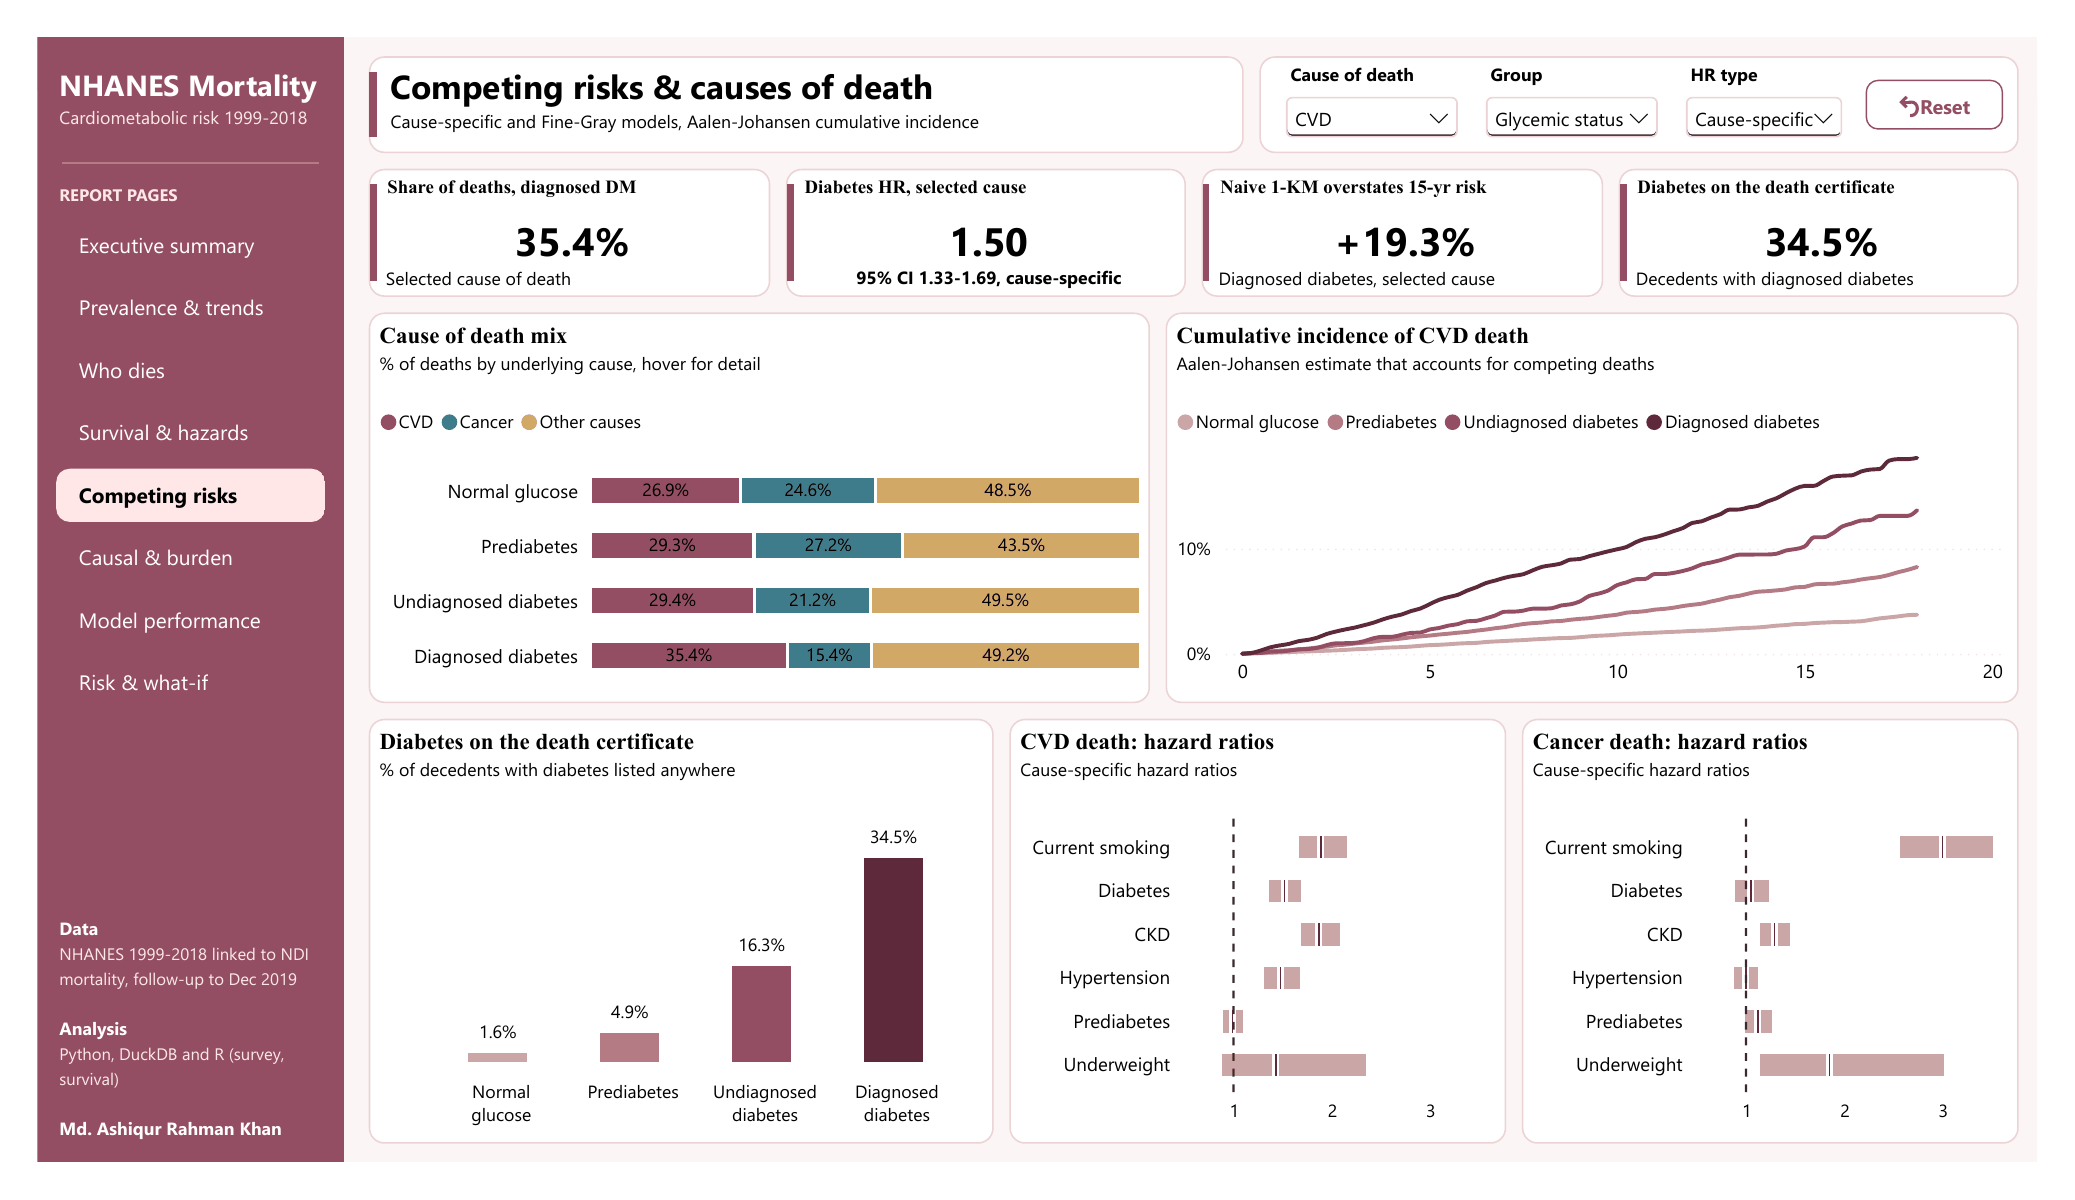

This screenshot's page, from the dashboard's own definition file:
{"tool":"powerbi","page":{"name":"Competing risks","canvas":[1280,720],"ordinal":4},"visuals":[{"type":"shape","box":[0,0,196,720],"z":1100},{"type":"textbox","box":[12,16,176,56],"z":1200},{"type":"shape","box":[16,80,164,1],"z":1300},{"type":"textbox","box":[12,90,176,22],"z":1400},{"type":"actionButton","box":[12,116,172,34],"z":1500},{"type":"actionButton","box":[12,156,172,34],"z":1600},{"type":"actionButton","box":[12,196,172,34],"z":1700},{"type":"actionButton","box":[12,236,172,34],"z":1800},{"type":"actionButton","box":[12,276,172,34],"z":1900},{"type":"actionButton","box":[12,316,172,34],"z":2000},{"type":"actionButton","box":[12,356,172,34],"z":2100},{"type":"actionButton","box":[12,396,172,34],"z":2200},{"type":"textbox","box":[12,560,176,150],"z":2300},{"type":"shape","box":[212,12,560,62],"z":2400},{"type":"shape","box":[212,22,5,42],"z":2500},{"type":"textbox","box":[224,15,542,56],"z":2600},{"type":"shape","box":[782,12,486,62],"z":2700},{"type":"actionButton","box":[1170,27,88,32],"z":2800},{"type":"slicer","fields":{"Values":["dim_cause.cause"]},"box":[794,16,120,54],"z":2900},{"type":"slicer","fields":{"Values":["dim_group_level.group_label"]},"box":[922,16,120,54],"z":3000},{"type":"slicer","fields":{"Values":["HR Type.HR Type"]},"box":[1050,16,110,54],"z":3100},{"type":"shape","box":[212,84,256.5,82],"z":3200},{"type":"shape","box":[213,94,4,62],"z":3300},{"type":"card","title":"Share of deaths, diagnosed DM","fields":{"Values":["_Measures.KPI Cause Share Diagnosed DM"]},"box":[222,87,240.5,60],"z":3400},{"type":"textbox","box":[222,145,240.5,19],"z":3500},{"type":"shape","box":[478.5,84,256.5,82],"z":3600},{"type":"shape","box":[479.5,94,4,62],"z":3700},{"type":"card","title":"Diabetes HR, selected cause","fields":{"Values":["_Measures.KPI Diabetes Cause HR"]},"box":[488.5,87,240.5,60],"z":3800},{"type":"card","fields":{"Values":["_Measures.KPI Diabetes Cause HR CI"]},"box":[488.5,145,240.5,19],"z":3900},{"type":"shape","box":[745,84,256.5,82],"z":4000},{"type":"shape","box":[746,94,4,62],"z":4100},{"type":"card","title":"Naive 1-KM overstates 15-yr risk","fields":{"Values":["_Measures.KPI 1-KM Overestimate Diagnosed DM"]},"box":[755,87,240.5,60],"z":4200},{"type":"textbox","box":[755,145,240.5,19],"z":4300},{"type":"shape","box":[1011.5,84,256.5,82],"z":4400},{"type":"shape","box":[1012.5,94,4,62],"z":4500},{"type":"card","title":"Diabetes on the death certificate","fields":{"Values":["_Measures.KPI DM on Certificate Diagnosed"]},"box":[1021.5,87,240.5,60],"z":4600},{"type":"textbox","box":[1021.5,145,240.5,19],"z":4700},{"type":"barChart","title":"Cause of death mix","fields":{"Category":["dim_group_level.level_label"],"Series":["dim_cause.cause"],"Y":["_Measures.Cause Share %"]},"box":[212,176,500,250],"z":4800},{"type":"lineChart","fields":{"Category":["stat_cumulative_incidence.time"],"Series":["dim_group_level.level_label"],"Y":["_Measures.CIF %"]},"box":[722,176,546,250],"z":4900},{"type":"clusteredColumnChart","title":"Diabetes on the death certificate","fields":{"Category":["dim_group_level.level_label"],"Y":["_Measures.DM on Certificate %"]},"box":[212,436,400,272],"z":5000},{"type":"barChart","title":"CVD death: hazard ratios","fields":{"Category":["stat_finegray.Term Label"],"Y":["_Measures.FP CR HR Start","_Measures.FP CR HR Low","_Measures.FP CR HR Point","_Measures.FP CR HR High"]},"box":[622,436,318,272],"z":5100},{"type":"barChart","title":"Cancer death: hazard ratios","fields":{"Category":["stat_finegray.Term Label"],"Y":["_Measures.FP CR HR Start","_Measures.FP CR HR Low","_Measures.FP CR HR Point","_Measures.FP CR HR High"]},"box":[950,436,318,272],"z":5200}]}

Visuals, with their boxes on the page's 1280x720 design canvas (x1, y1, x2, y2). These are canvas units, not pixel positions in the 2075x1200 screenshot, which may show the page scaled, cropped or inside an application window:
shape: locate(0, 0, 196, 720)
textbox: locate(12, 16, 188, 72)
shape: locate(16, 80, 180, 81)
textbox: locate(12, 90, 188, 112)
actionButton: locate(12, 116, 184, 150)
actionButton: locate(12, 156, 184, 190)
actionButton: locate(12, 196, 184, 230)
actionButton: locate(12, 236, 184, 270)
actionButton: locate(12, 276, 184, 310)
actionButton: locate(12, 316, 184, 350)
actionButton: locate(12, 356, 184, 390)
actionButton: locate(12, 396, 184, 430)
textbox: locate(12, 560, 188, 710)
shape: locate(212, 12, 772, 74)
shape: locate(212, 22, 217, 64)
textbox: locate(224, 15, 766, 71)
shape: locate(782, 12, 1268, 74)
actionButton: locate(1170, 27, 1258, 59)
slicer - dim_cause.cause: locate(794, 16, 914, 70)
slicer - dim_group_level.group_label: locate(922, 16, 1042, 70)
slicer - HR Type.HR Type: locate(1050, 16, 1160, 70)
shape: locate(212, 84, 468, 166)
shape: locate(213, 94, 217, 156)
"Share of deaths, diagnosed DM" card: locate(222, 87, 462, 147)
textbox: locate(222, 145, 462, 164)
shape: locate(478, 84, 735, 166)
shape: locate(480, 94, 484, 156)
"Diabetes HR, selected cause" card: locate(488, 87, 729, 147)
card - _Measures.KPI Diabetes Cause HR CI: locate(488, 145, 729, 164)
shape: locate(745, 84, 1002, 166)
shape: locate(746, 94, 750, 156)
"Naive 1-KM overstates 15-yr risk" card: locate(755, 87, 996, 147)
textbox: locate(755, 145, 996, 164)
shape: locate(1012, 84, 1268, 166)
shape: locate(1012, 94, 1016, 156)
"Diabetes on the death certificate" card: locate(1022, 87, 1262, 147)
textbox: locate(1022, 145, 1262, 164)
"Cause of death mix" barChart: locate(212, 176, 712, 426)
lineChart - stat_cumulative_incidence.time x dim_group_level.level_label: locate(722, 176, 1268, 426)
"Diabetes on the death certificate" clusteredColumnChart: locate(212, 436, 612, 708)
"CVD death: hazard ratios" barChart: locate(622, 436, 940, 708)
"Cancer death: hazard ratios" barChart: locate(950, 436, 1268, 708)
